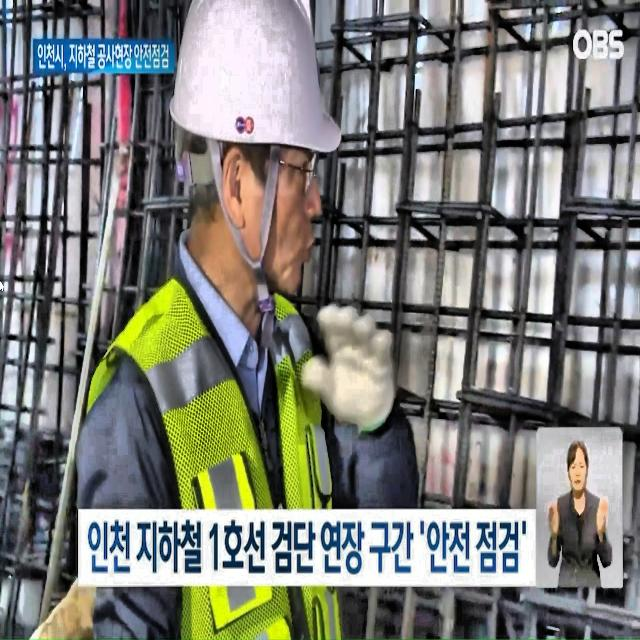safety_helmet: (173, 10, 363, 164)
safety_jacket: (79, 264, 388, 640)
